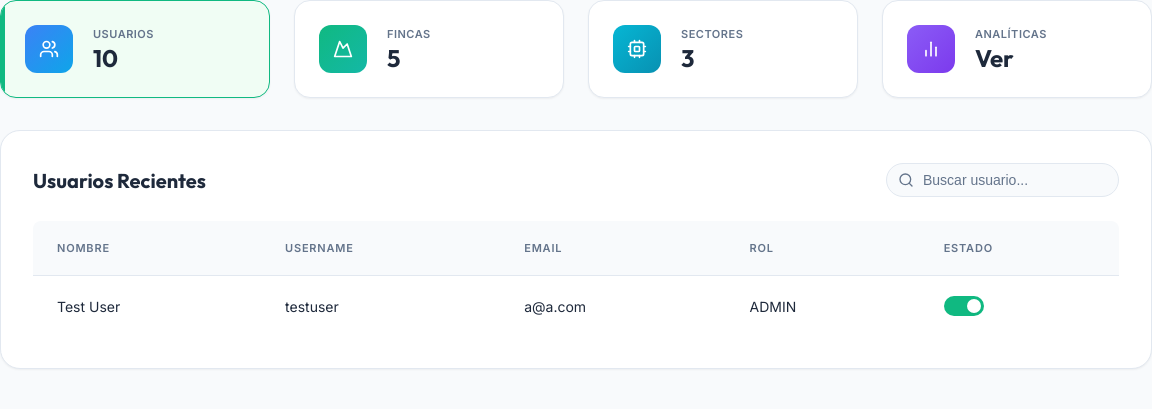
Test: Dashboard Page Component › should show Farms table when clicking Fincas KPI
Expected: the heading "Usuarios Recientes" is shown, [33, 168, 206, 192]
What coordinates should you click on to do the following:
click the button "Fincas 5"
I would click on:
 (409, 34)
Its box is [294, 0, 564, 98].
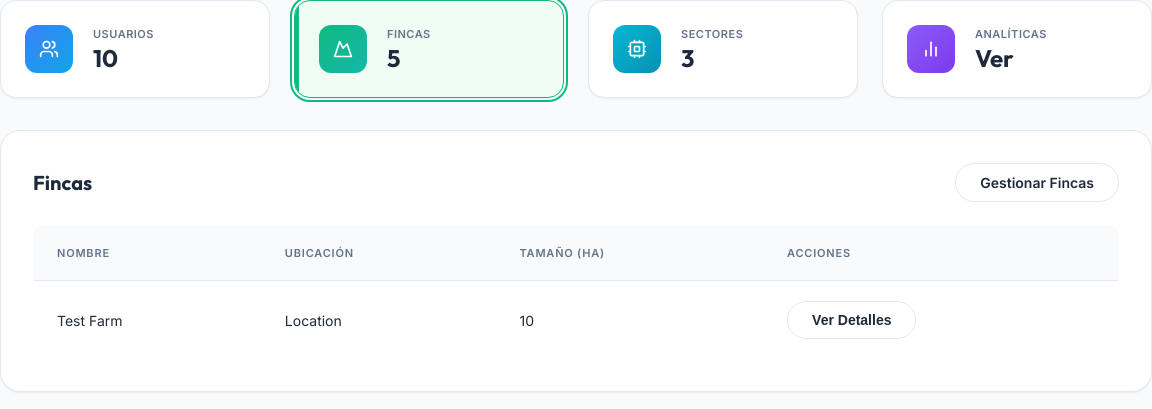
Result: the text "Test Farm" is shown at [33, 280, 261, 359]
